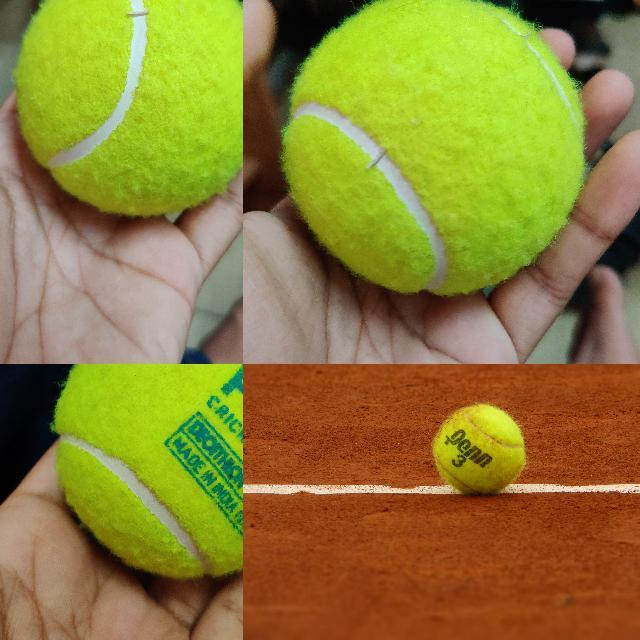tennis-ball: (283, 0, 583, 295), (17, 0, 242, 215), (52, 364, 242, 579), (433, 404, 524, 494)
